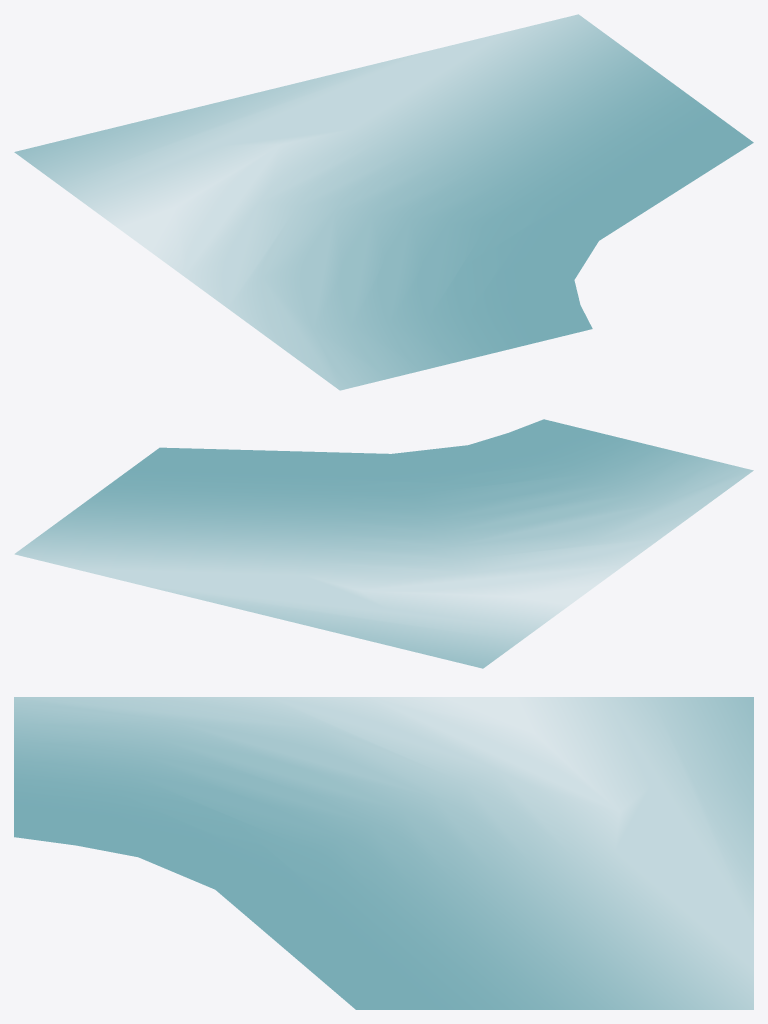
3 views of the same model, one above another, from view 1: azimuth 30°, elevation 25°; view 2: azimuth 150°, elevation 25°; view 3: azimuth 270°, elevation 25° (orthographic). The views are drawn at different scales.
Visible parts, largest first — view 1: city; view 2: city; view 3: city.
Part boxes in pixels (x1,y1,x2,y2): city: [14, 14, 753, 390]; city: [15, 419, 753, 668]; city: [14, 697, 753, 1009].
Size of the model in its own units: 500 by 0 by 500.
